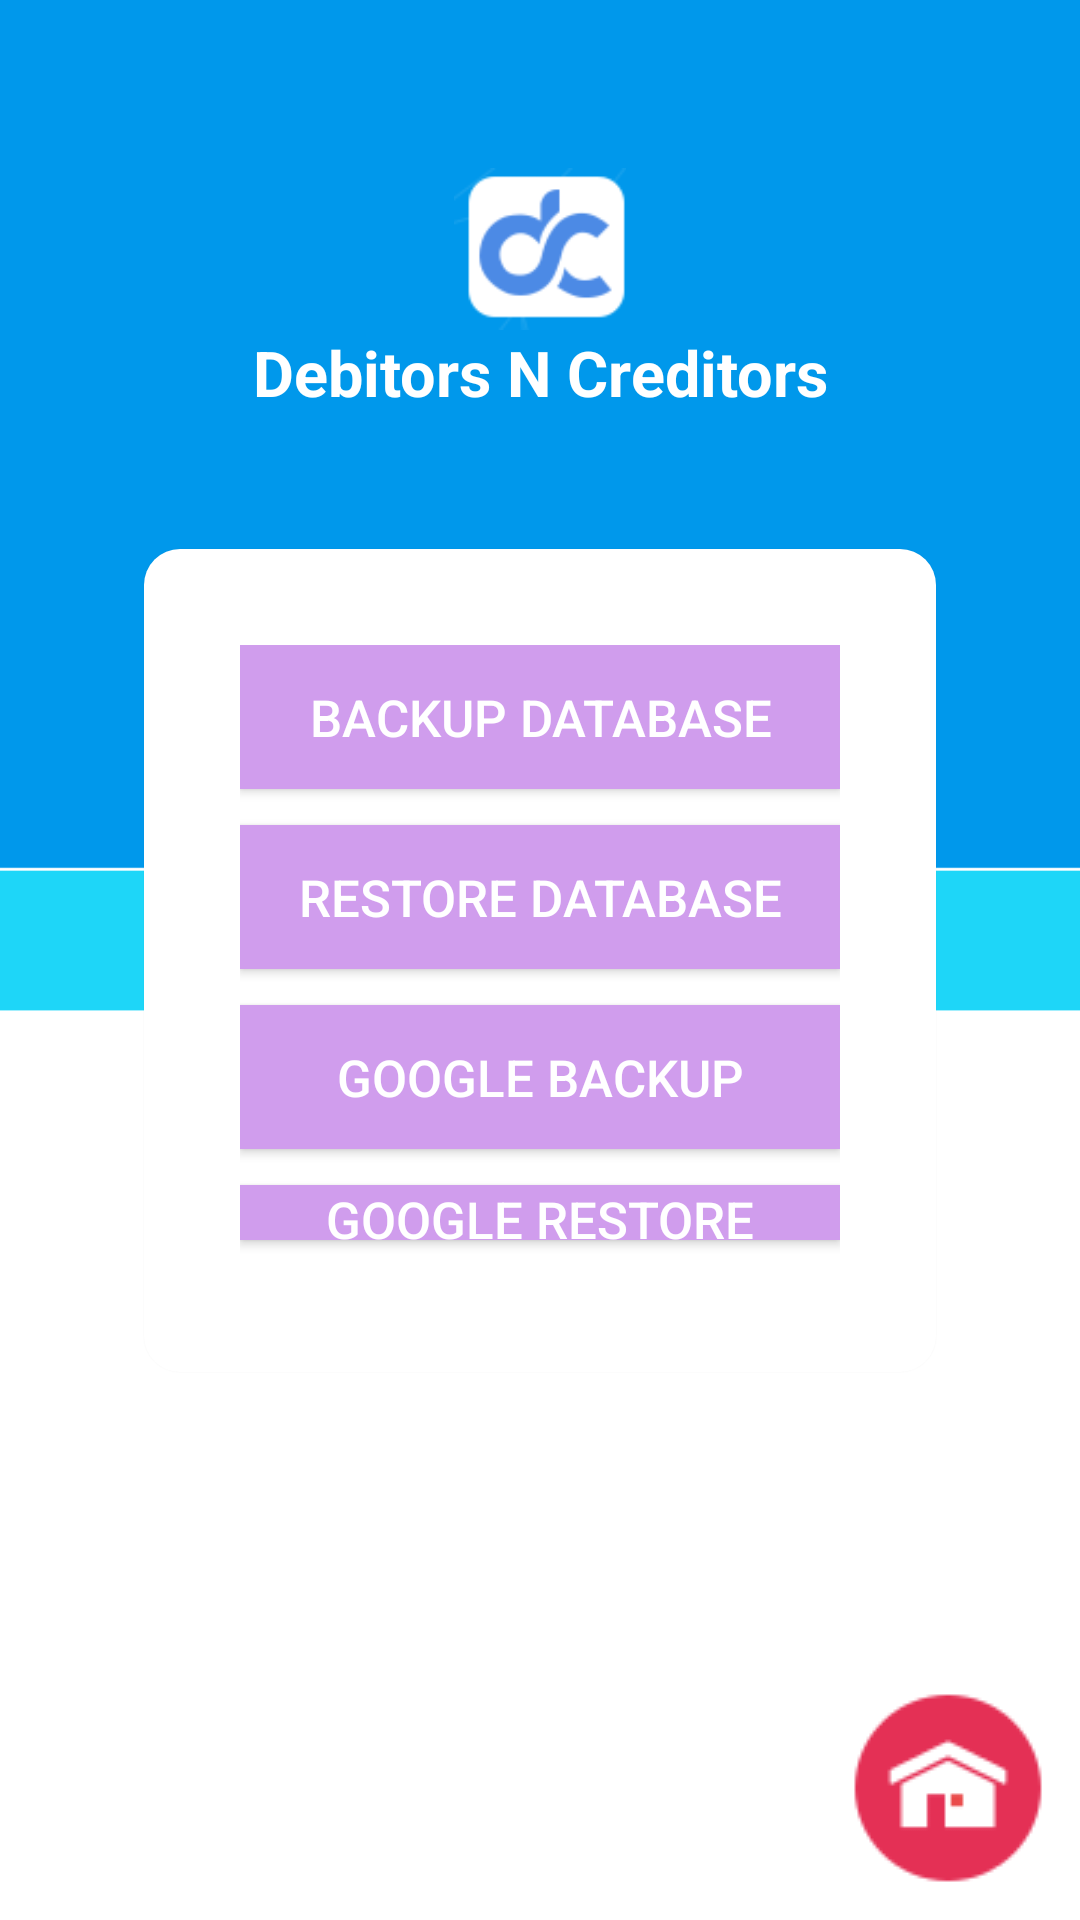

Screen size 1080 x 1920. Icon name, then its center in pixels as point (x, y):
home: point (948, 1788)
